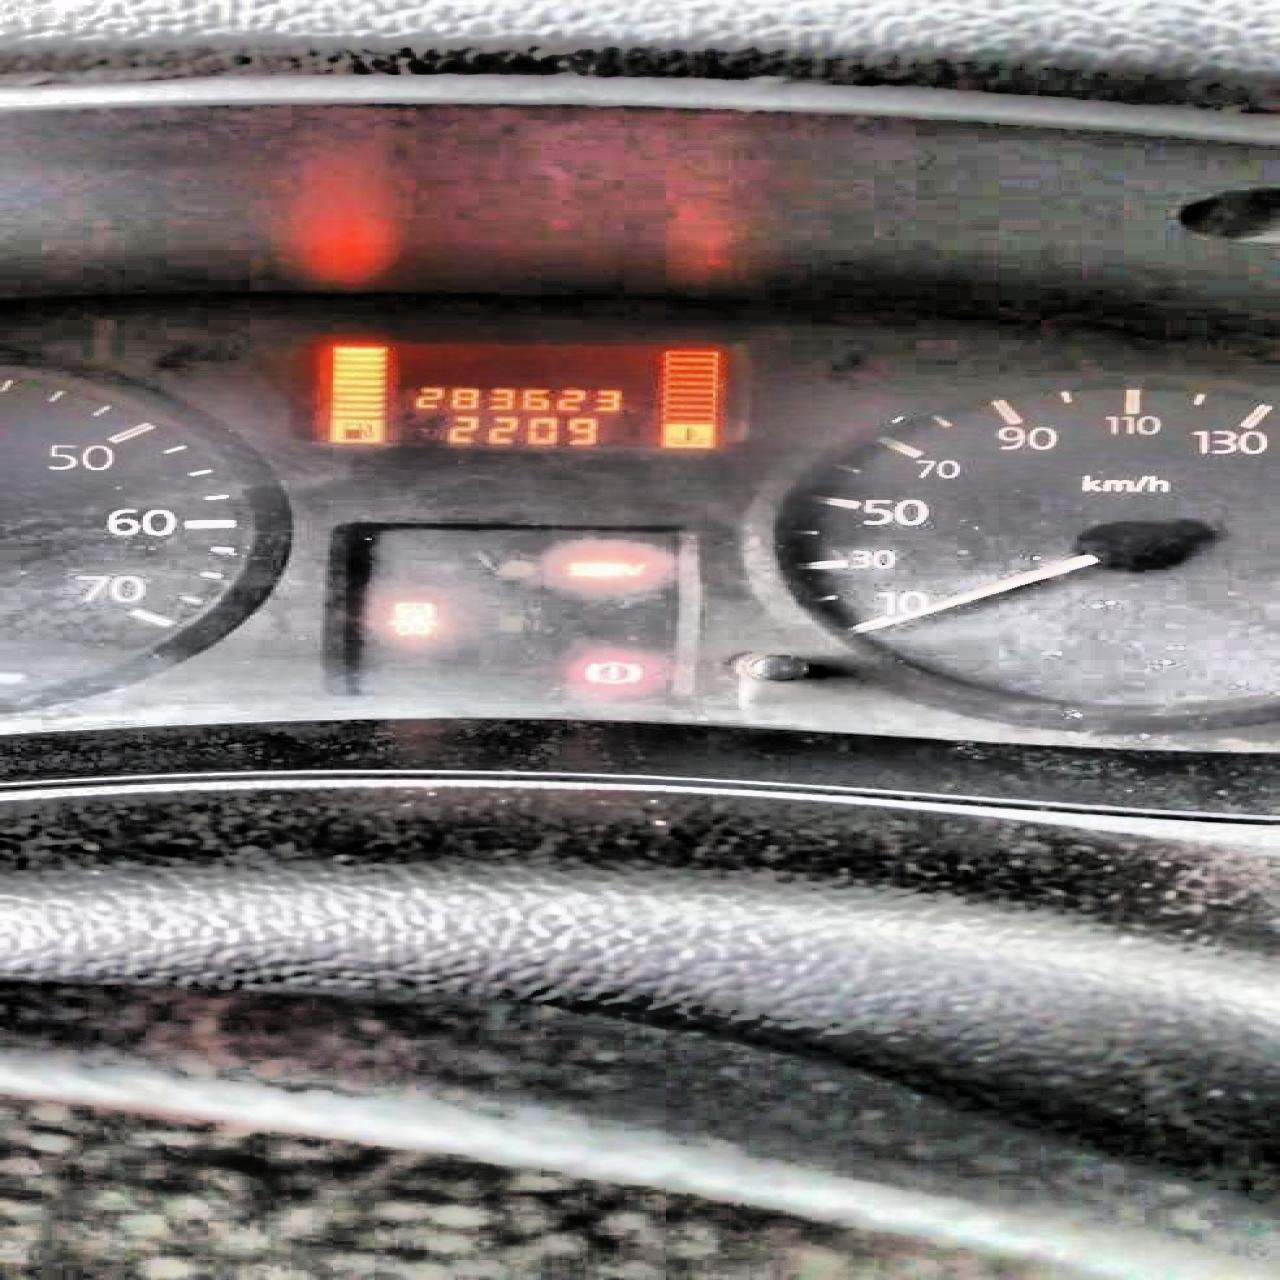0: (526, 414, 554, 444)
2: (484, 414, 518, 443), (445, 414, 476, 443), (414, 384, 442, 409), (554, 388, 583, 410)
3: (591, 388, 619, 411), (484, 387, 512, 409)
6: (520, 387, 546, 409)
8: (448, 384, 478, 409)
9: (565, 415, 599, 444)
odometer: (294, 334, 749, 451)
